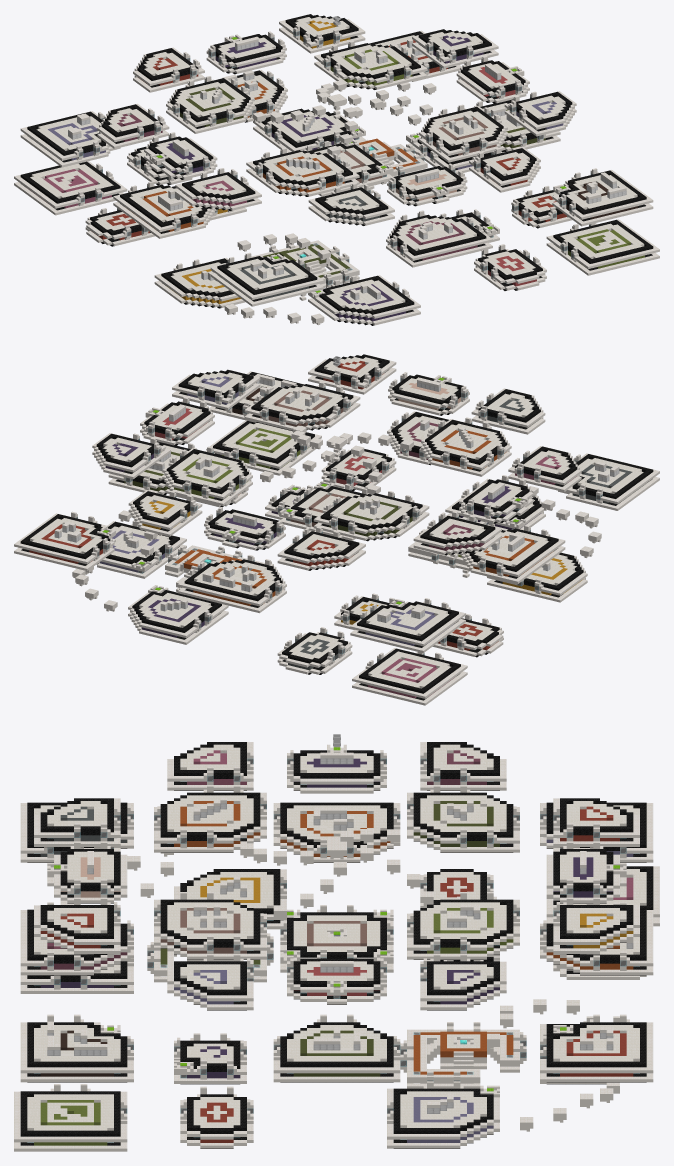
Rendered from minecraft.obj.
3 views of the same model, one above another, from view 1: azimuth 30°, elevation 25°; view 2: azimuth 150°, elevation 25°; view 3: azimuth 270°, elevation 25° (orthographic). The views are drawn at different scales.
Bounding box in the file's own units: 97 × 51.75 × 97.
